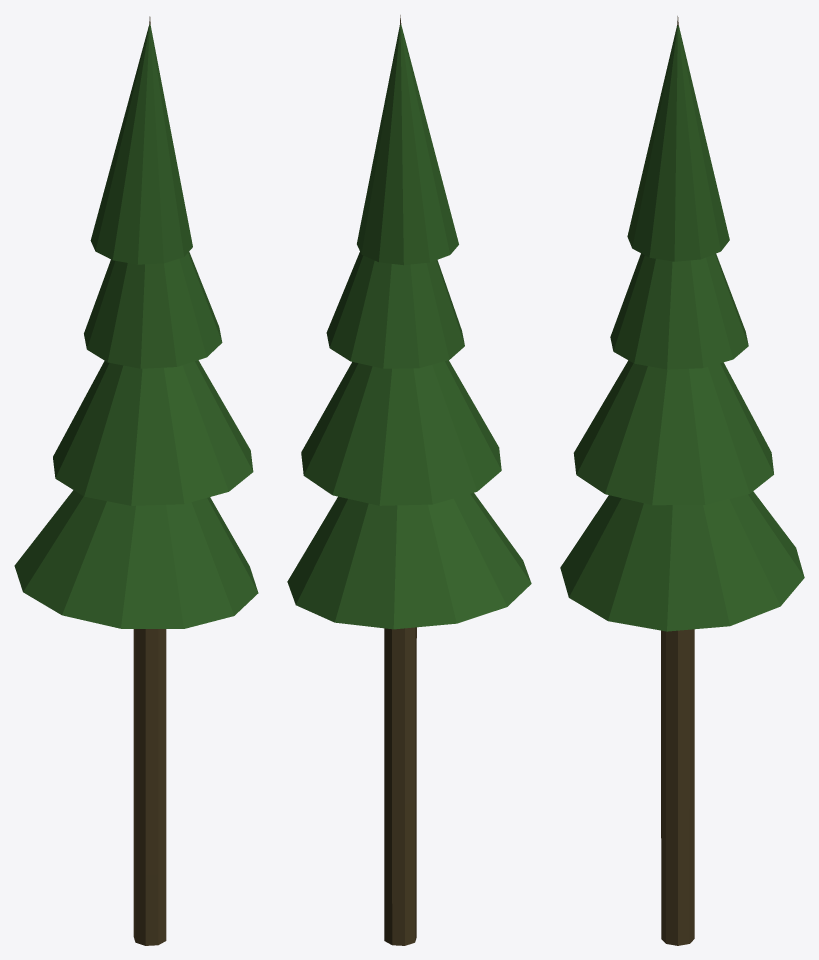
Rendered from tree03.fbx.
3 renders of one model, left to right at view 1: azimuth 30°, elevation 25°; view 2: azimuth 150°, elevation 25°; view 3: azimuth 270°, elevation 25°, orthographic.
Visible parts, largest first — view 1: tree03; view 2: tree03; view 3: tree03.
Boxes of the visible parts, x1,y1,x2,y2 form: tree03: (14,16,258,945); tree03: (287,15,531,945); tree03: (560,16,804,945).
Size of the model in its own units: 233 by 974 by 233.
